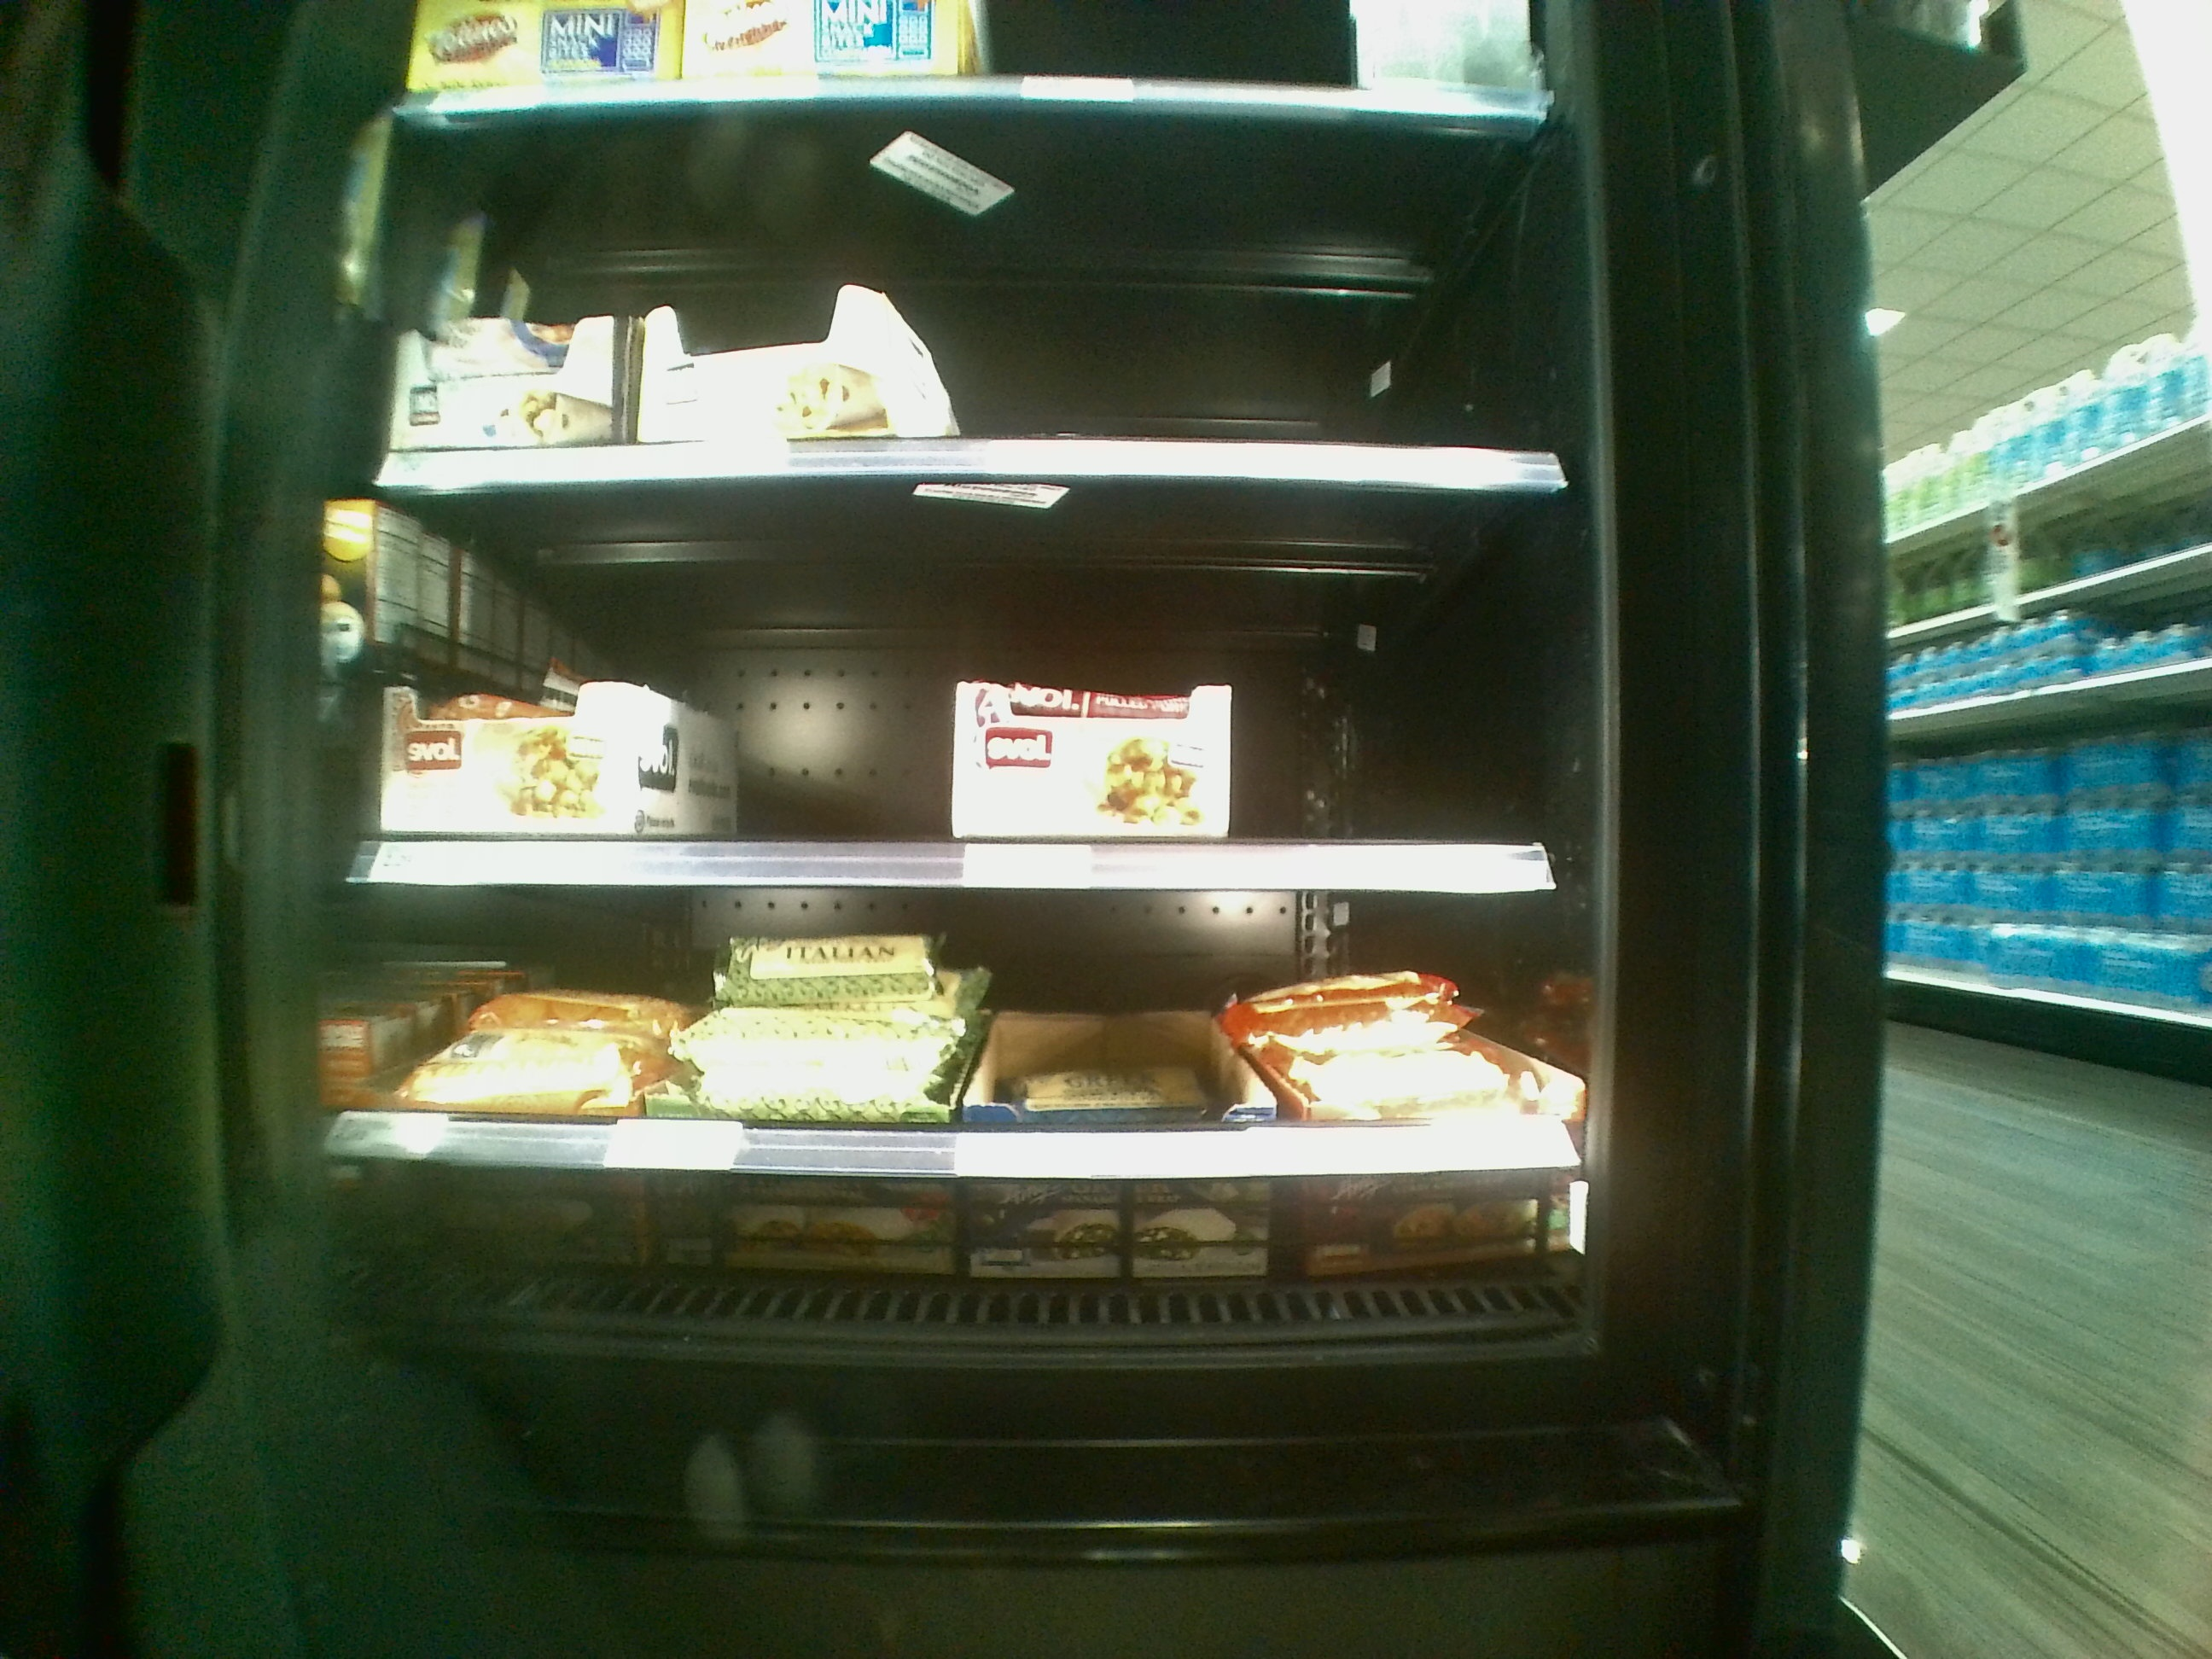shelf: (334, 890, 1580, 1297), (373, 490, 1573, 884), (383, 118, 1564, 493)
